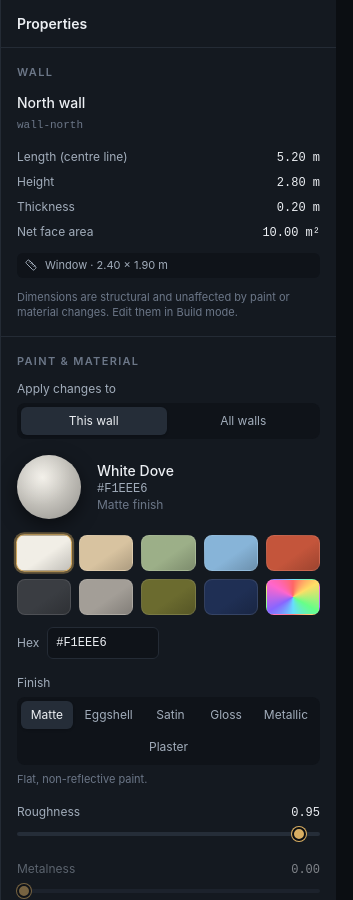
Test: PropertiesPanel › paints only the selected wall from a swatch and keeps its dimensions
Click the button named "Terracotta Red" at point(293, 553), box [266,535,320,571]
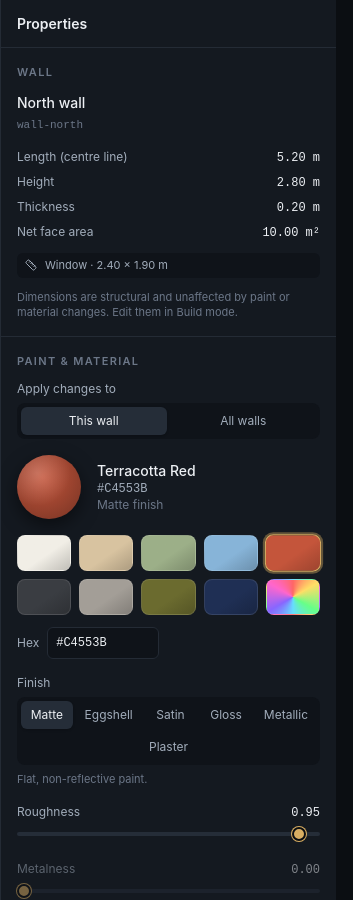
Expected: the text with test id "wall-length" reads "5.20 m", [277,151,320,165]
Now the text "#C4553B" is shown, box [97,482,147,496]
Now the text with test id "current-color" reads "#C4553B", box [97,482,147,496]
